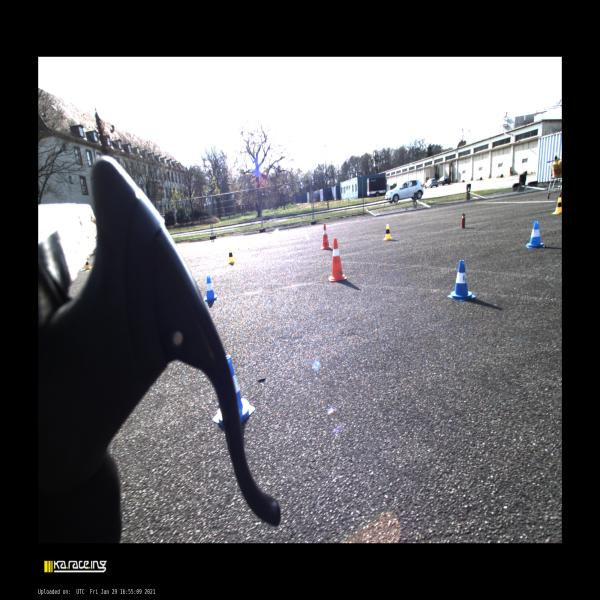blue_cone: (212, 353, 255, 431), (447, 260, 476, 302), (526, 221, 545, 248), (204, 275, 218, 302)
large_orange_cone: (328, 238, 347, 282), (321, 224, 331, 250)
yellow_cone: (551, 197, 562, 214), (384, 224, 392, 241), (228, 249, 235, 264), (84, 258, 92, 270), (552, 152, 559, 164), (559, 152, 562, 164)
